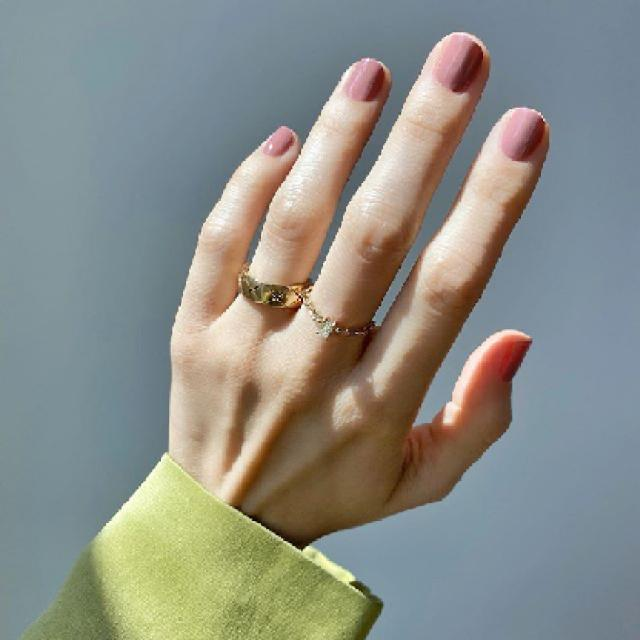Nail: (434, 32, 484, 92), (501, 108, 546, 161), (344, 59, 385, 101), (498, 334, 532, 383), (262, 129, 295, 157)
